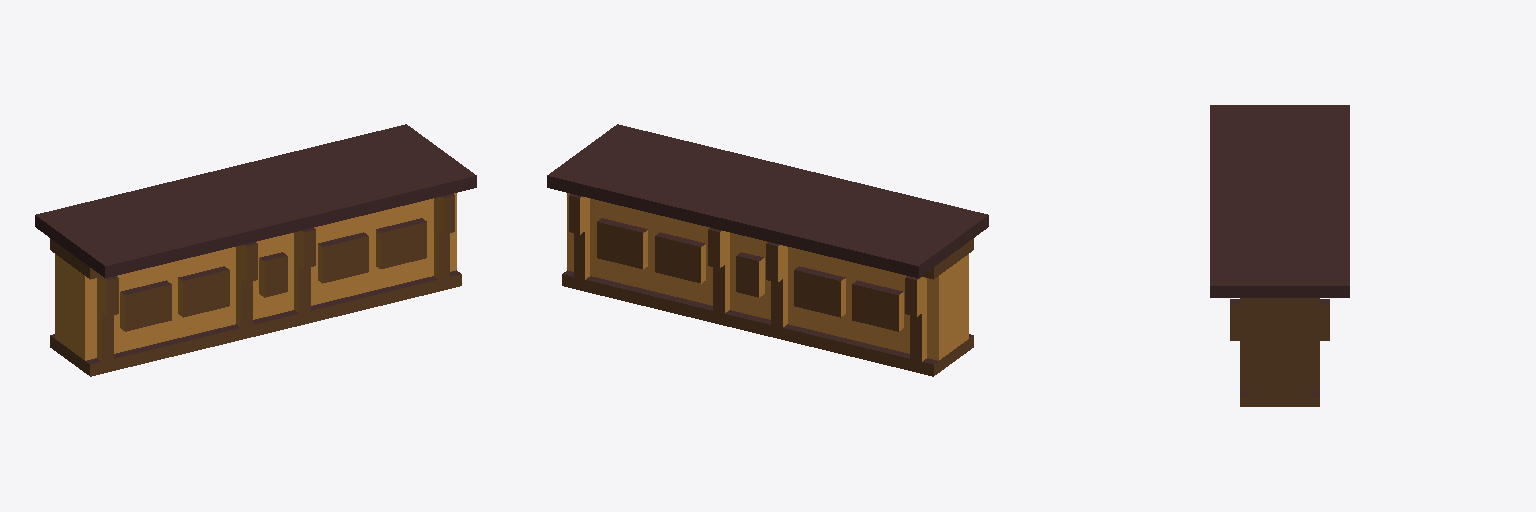
3 views of the same model, side by side, from view 1: azimuth 30°, elevation 25°; view 2: azimuth 150°, elevation 25°; view 3: azimuth 270°, elevation 25° (orthographic).
Bounding box in the file's own units: 32 × 10 × 10.5.
1 materials, 1 textured.